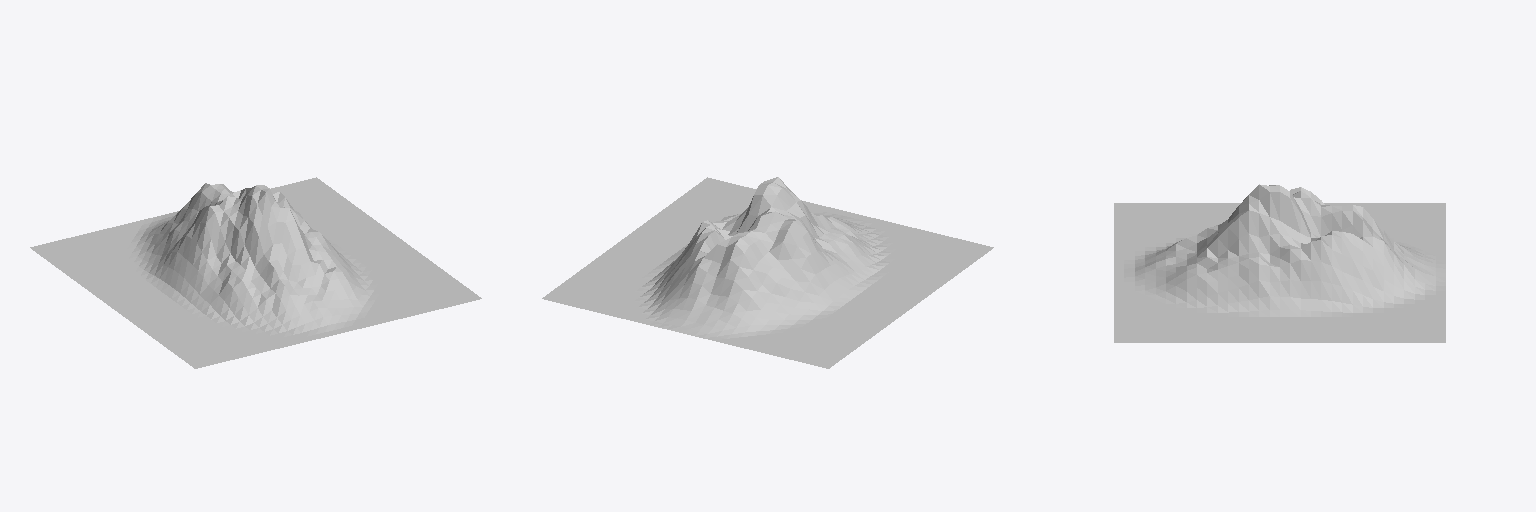
File: mou_006.obj
3 views of the same model, side by side, from view 1: azimuth 30°, elevation 25°; view 2: azimuth 150°, elevation 25°; view 3: azimuth 270°, elevation 25° (orthographic).
Visible parts, largest first — view 1: 平面; view 2: 平面; view 3: 平面.
Part boxes in pixels (x1,y1,x2,y2): 平面: (30, 177, 481, 368); 平面: (542, 177, 993, 368); 平面: (1114, 184, 1445, 342).
Bounding box in the file's own units: 414 × 197 × 414.